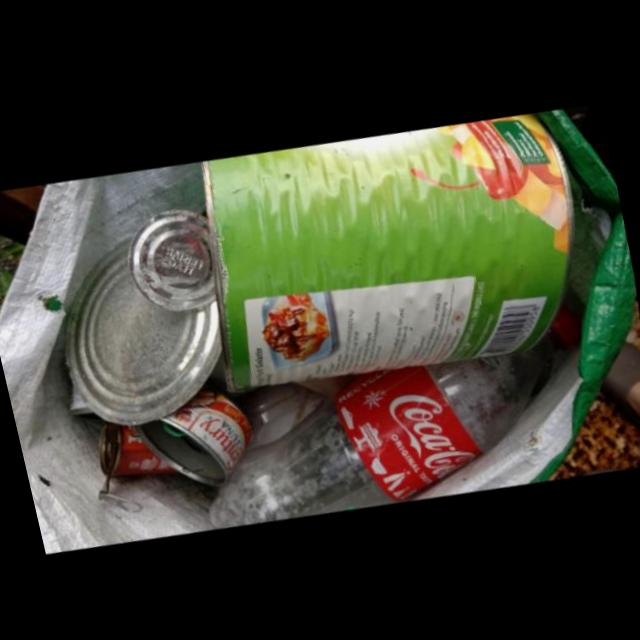chai_nhua_pet: (212, 301, 582, 527)
nhom: (206, 110, 572, 390), (66, 235, 224, 424), (133, 380, 256, 484), (129, 208, 218, 309), (103, 421, 181, 476)
